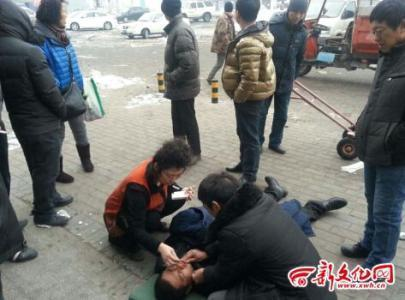Fall-Detected: (174, 169, 353, 294)
